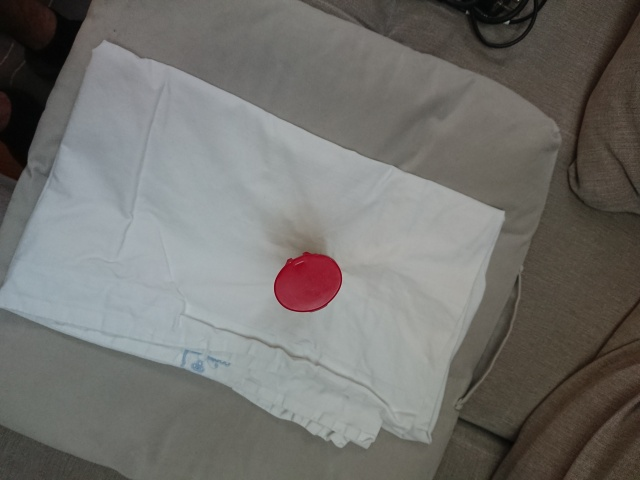Kotanyi Curry Spices Mix 70g: (272, 250, 345, 314)
